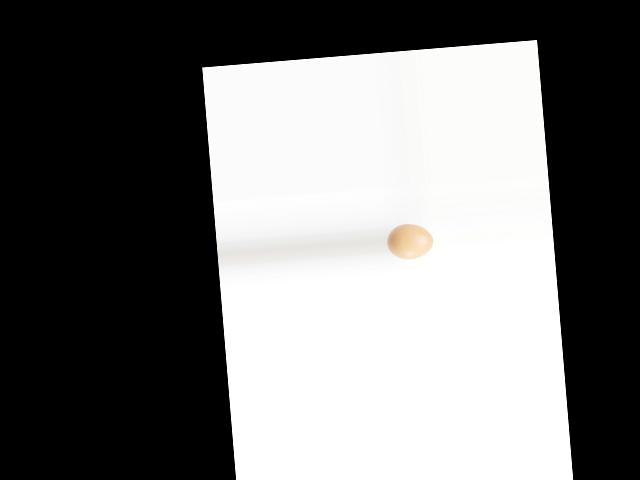egg: (385, 221, 434, 260)
